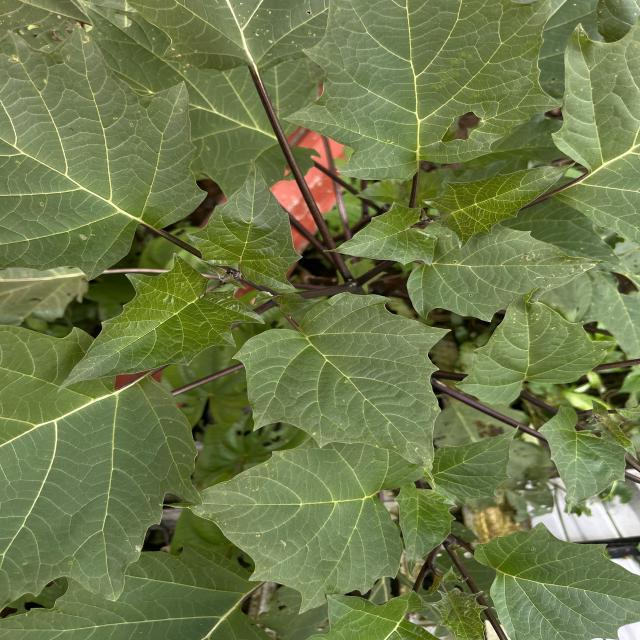Datura metal linn: (156, 436, 425, 617), (229, 290, 456, 492), (55, 250, 268, 396), (451, 285, 621, 408), (186, 156, 304, 292), (420, 160, 580, 252), (534, 403, 632, 518), (321, 200, 439, 268), (432, 424, 522, 506), (392, 483, 460, 579)
